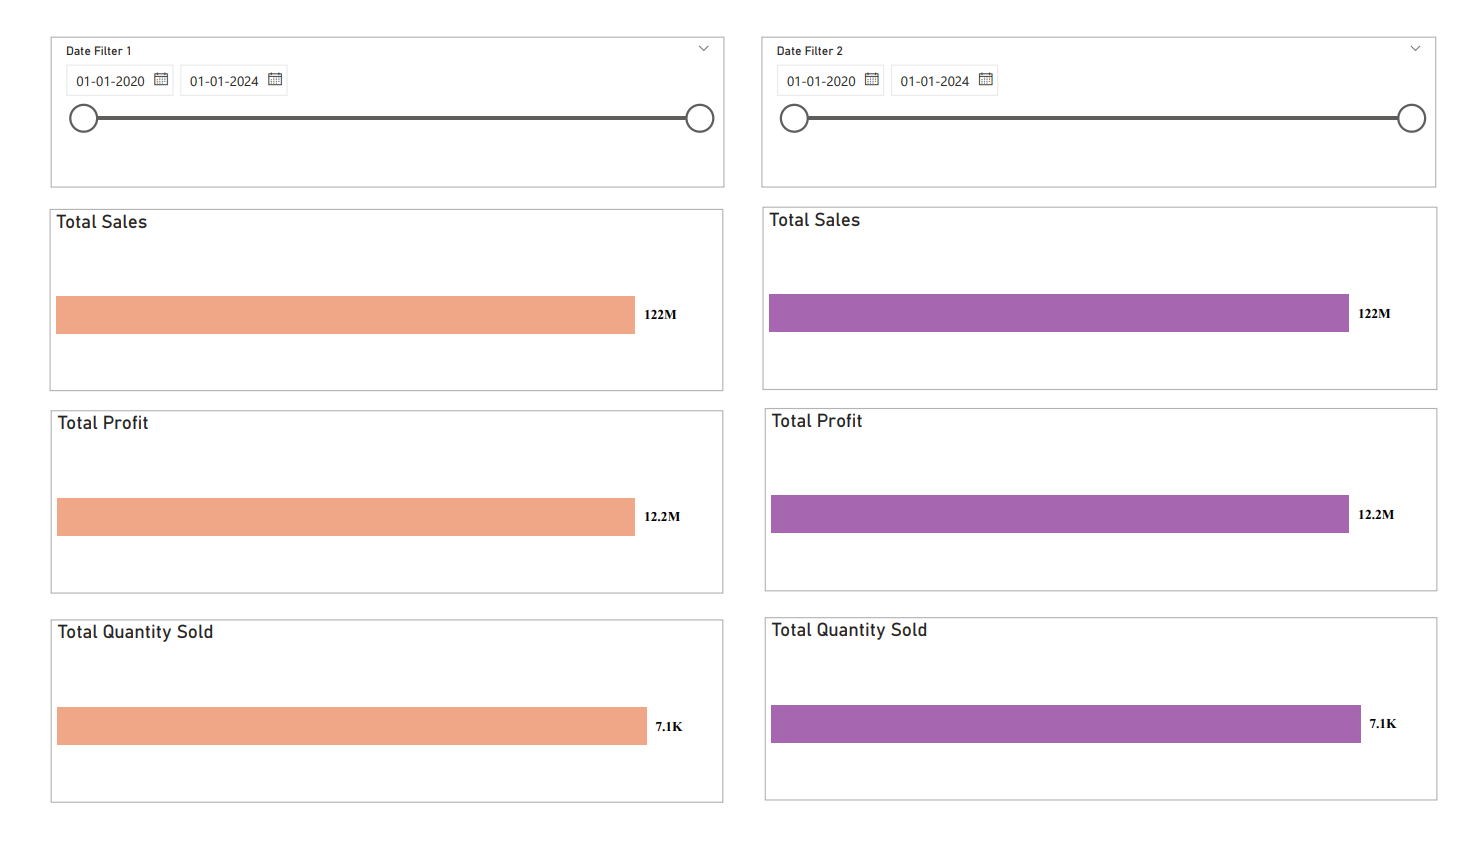

The page's visual inventory and layout, read from the dashboard file:
{"tool":"powerbi","page":{"name":"Edit interaction","canvas":[1280,720],"ordinal":3},"visuals":[{"type":"slicer","fields":{"Values":["Fact Table.Date (dd/mm/yyyy)"]},"box":[24.1,15,603.3,135.4],"z":0},{"type":"slicer","fields":{"Values":["Fact Table.Date (dd/mm/yyyy)"]},"box":[660.5,15,603.3,135.4],"z":1000},{"type":"barChart","title":"Total Sales  ","fields":{"Y":["Sum(Fact Table.Net Sales  )"]},"box":[22.6,168.5,603.3,164],"z":2000},{"type":"barChart","title":"Total Profit  ","fields":{"Y":["Sum(Fact Table.Profit)"]},"box":[24.1,349,601.8,164],"z":3000},{"type":"barChart","title":"Total Quantity Sold","fields":{"Y":["Sum(Fact Table.Units Sold)"]},"box":[24.1,535.6,601.8,164],"z":4000},{"type":"barChart","title":"Total Sales  ","fields":{"Y":["Sum(Fact Table.Net Sales  )"]},"box":[661.4,166.9,603.3,164],"z":5000},{"type":"barChart","title":"Total Profit  ","fields":{"Y":["Sum(Fact Table.Profit)"]},"box":[662.9,347.5,601.8,164],"z":6000},{"type":"barChart","title":"Total Quantity Sold","fields":{"Y":["Sum(Fact Table.Units Sold)"]},"box":[662.9,534,601.8,164],"z":7000}]}

Visuals, with their boxes in screenshot pixels (x1, y1, x2, y2), scaled from the page's 1280x720 canvas onto the 1467x843 screenshot:
slicer - Fact Table.Date (dd/mm/yyyy): x1=28 y1=18 x2=719 y2=176
slicer - Fact Table.Date (dd/mm/yyyy): x1=757 y1=18 x2=1448 y2=176
"Total Sales  " barChart: x1=26 y1=197 x2=717 y2=389
"Total Profit  " barChart: x1=28 y1=409 x2=717 y2=601
"Total Quantity Sold" barChart: x1=28 y1=627 x2=717 y2=819
"Total Sales  " barChart: x1=758 y1=195 x2=1449 y2=387
"Total Profit  " barChart: x1=760 y1=407 x2=1449 y2=599
"Total Quantity Sold" barChart: x1=760 y1=625 x2=1449 y2=817
